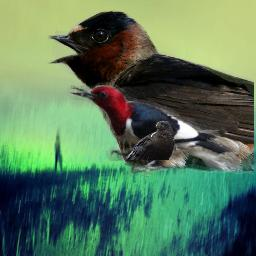Crow: (124, 120, 175, 160)
Swallow: (46, 10, 254, 174)
Woodpecker: (64, 81, 236, 177)
